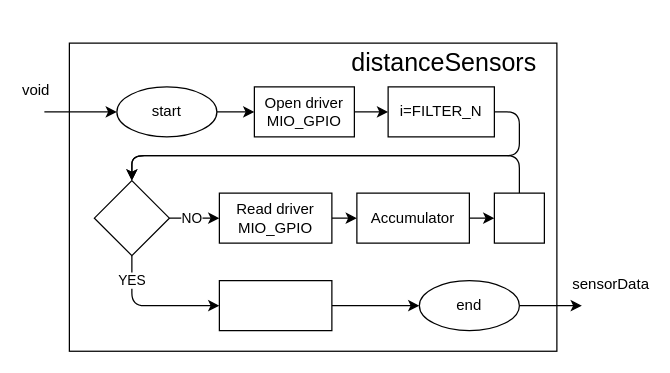
The diagram is 670 pixels wide and 373 high, and some of its shapes have lost their labels. The centre of each missing label's shape, as x and y in pixels:
"i--" belongs at point 518,217.
"i=0" belongs at point 131,217.
"Mean" belongs at point 275,305.
